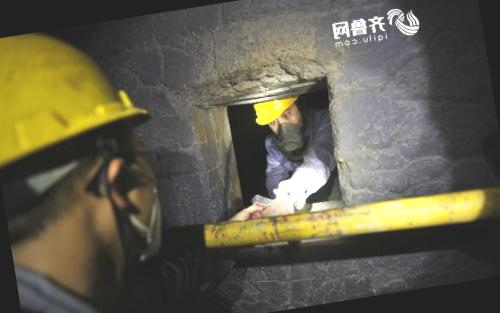person: (196, 79, 356, 247)
